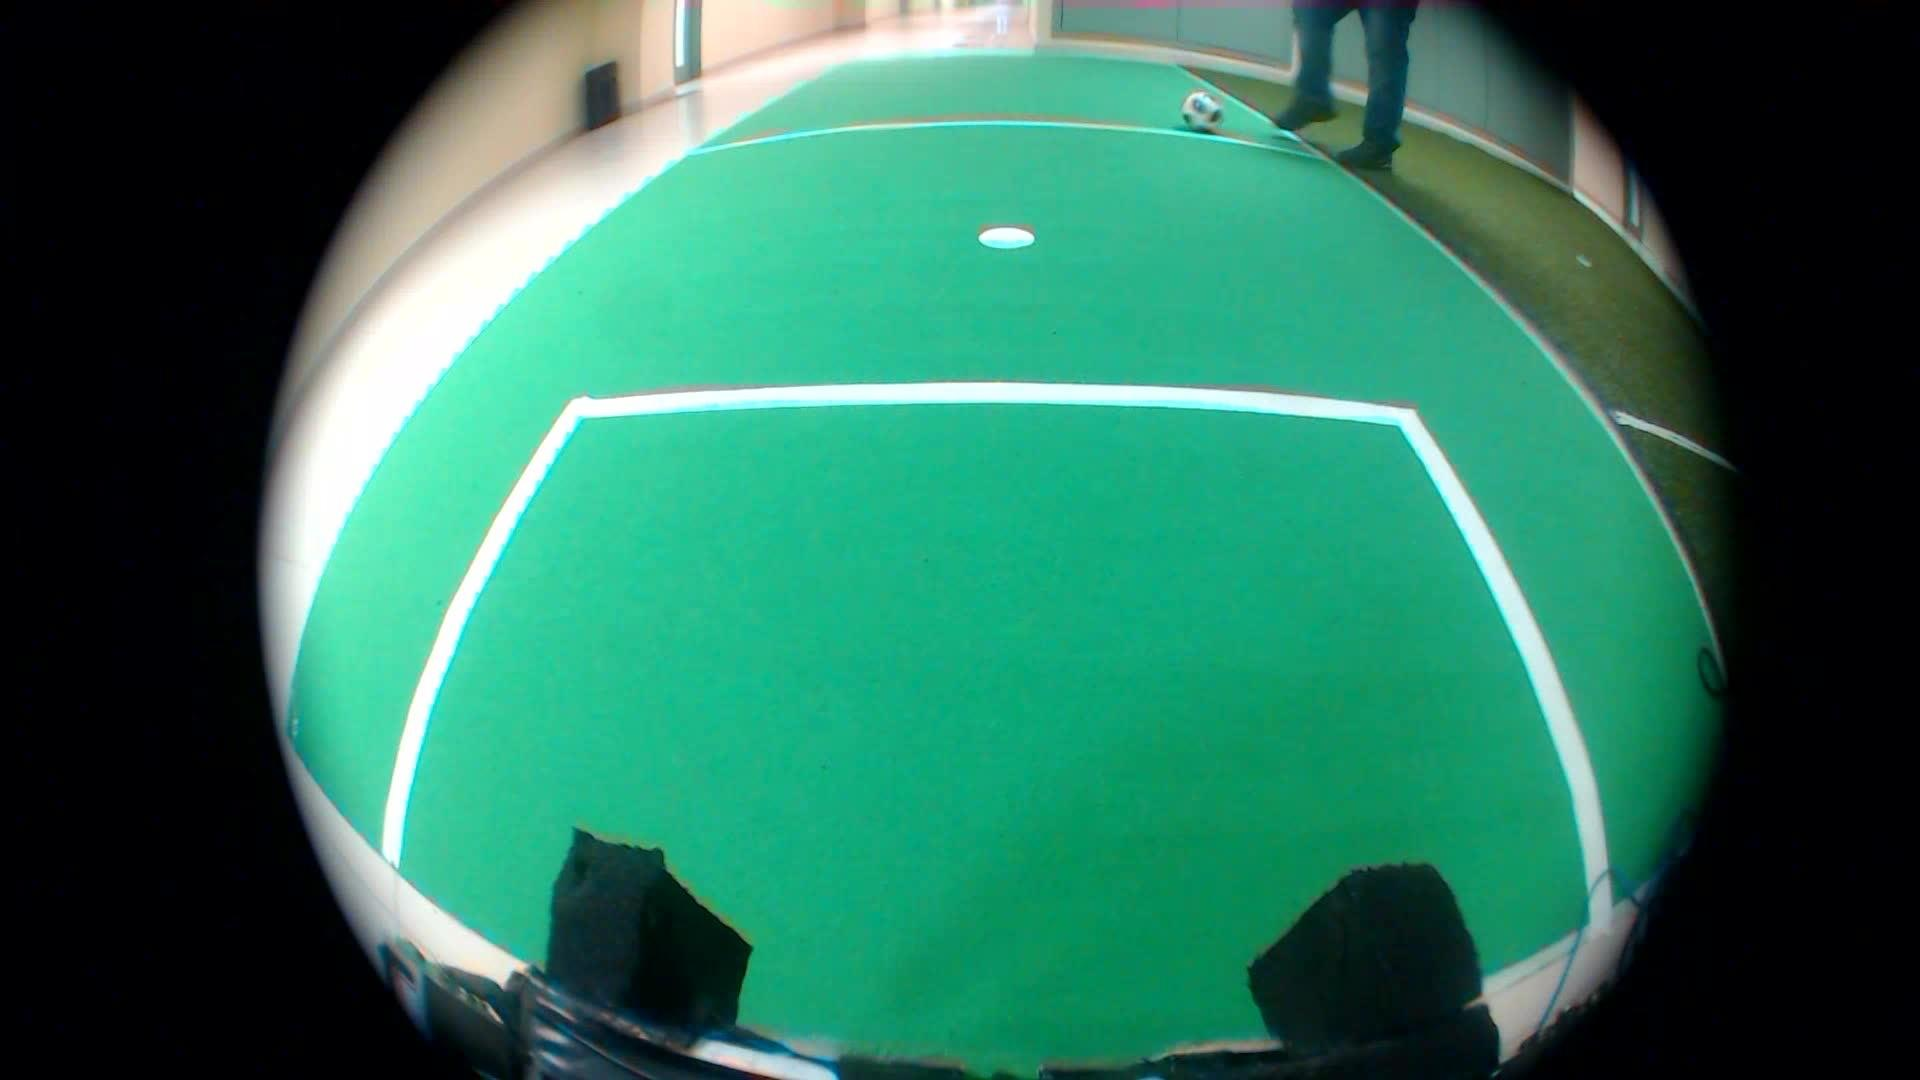ball: (1172, 76, 1232, 141)
